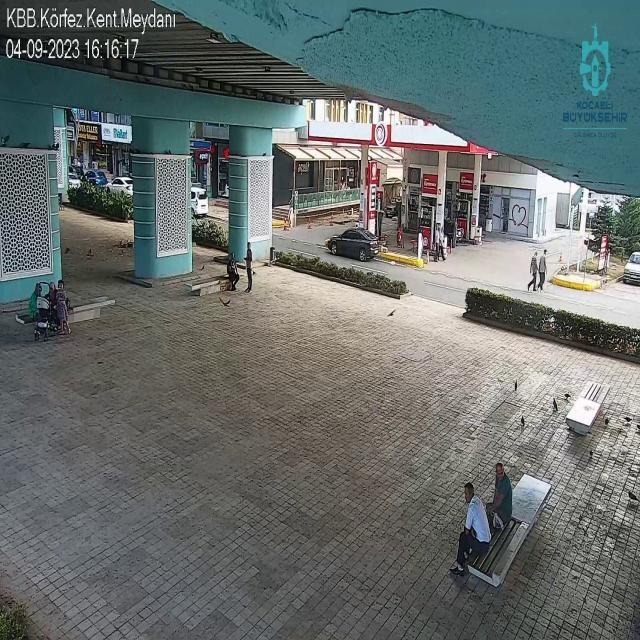Car: (325, 225, 382, 264), (106, 174, 134, 197), (80, 170, 108, 187)
Van: (189, 186, 210, 218)
